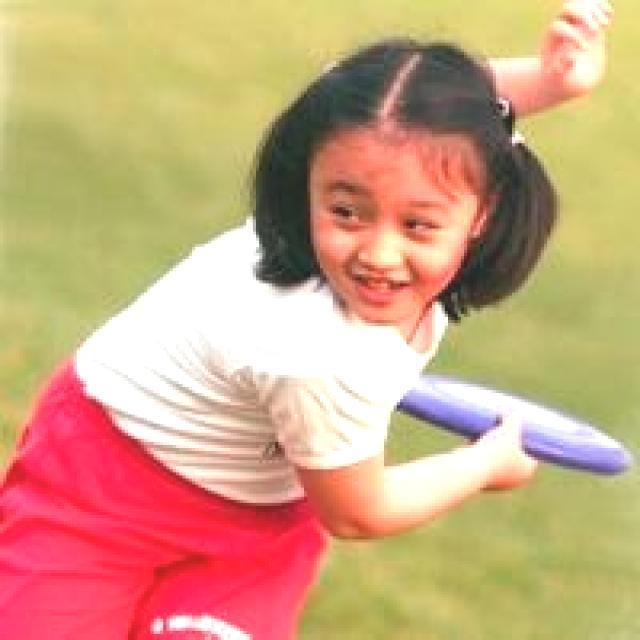no_vest: (54, 211, 480, 520)
